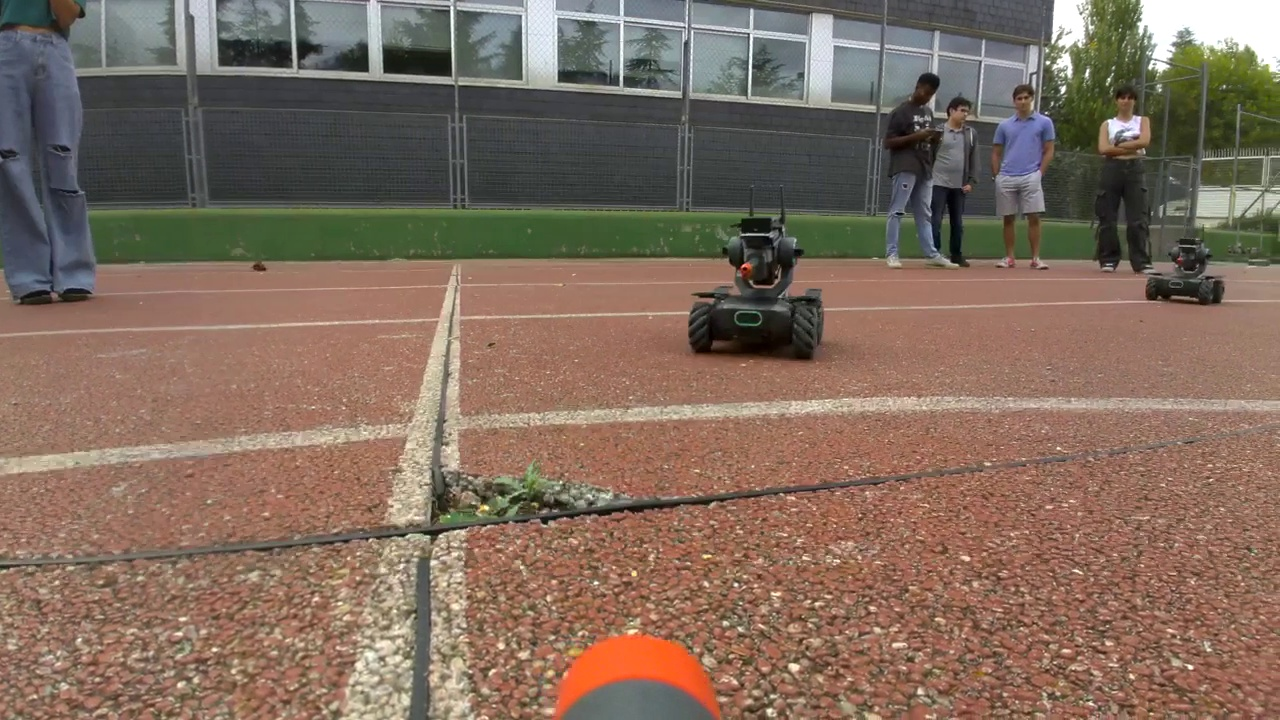robot: (691, 219, 823, 358), (1146, 237, 1226, 304)
